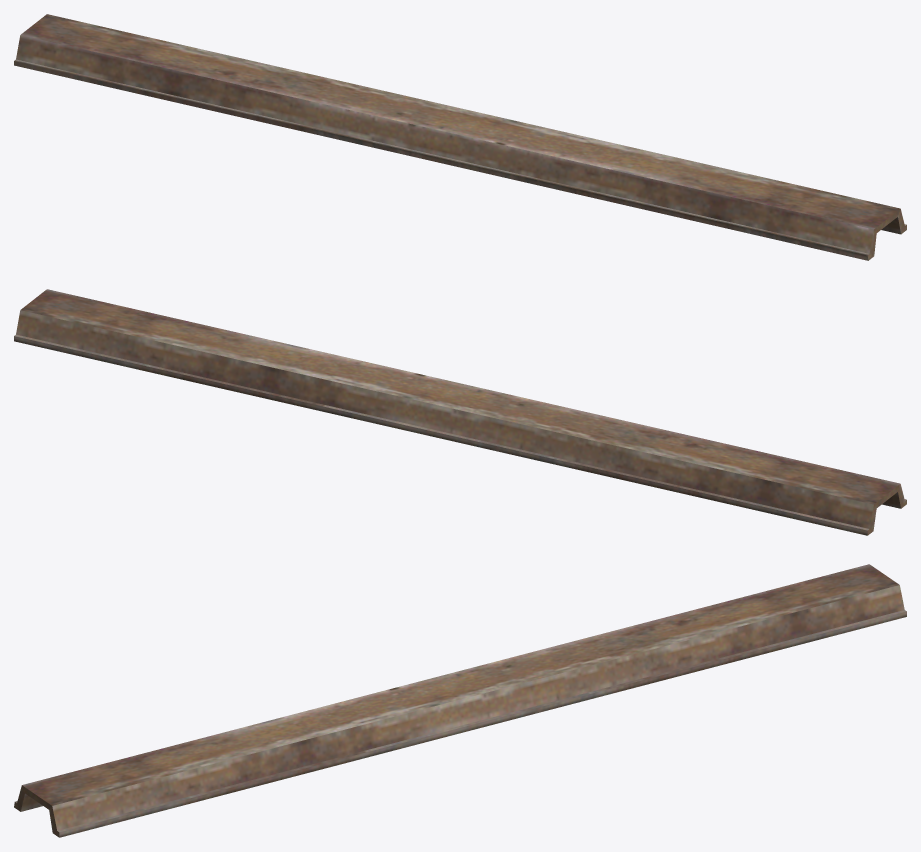
Rendered from construction.005_construction_assets_0_lev3.glb.
The picture shows the model from 3 angles, top to bottom: view 1: azimuth 30°, elevation 25°; view 2: azimuth 210°, elevation 25°; view 3: azimuth 270°, elevation 25°; orthographic projection. The views are drawn at different scales.
Visible parts, largest first — view 1: construction.005_construction_assets_0_lev3; view 2: construction.005_construction_assets_0_lev3; view 3: construction.005_construction_assets_0_lev3.
Part boxes in pixels (x1=…): construction.005_construction_assets_0_lev3: x1=14, y1=14, x2=906, y2=260; construction.005_construction_assets_0_lev3: x1=14, y1=289, x2=906, y2=535; construction.005_construction_assets_0_lev3: x1=14, y1=564, x2=906, y2=837.
Bounding box in the file's own units: 9.49 × 0.4748 × 14.23.
1 material, 1 textured.
